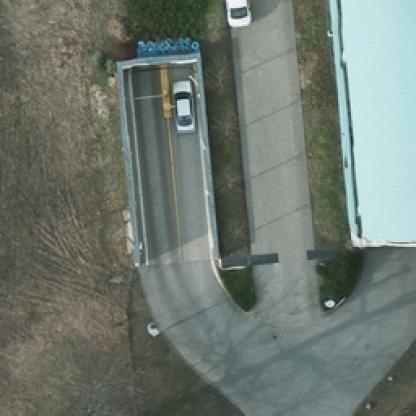car: (169, 81, 197, 132), (221, 0, 250, 28)
